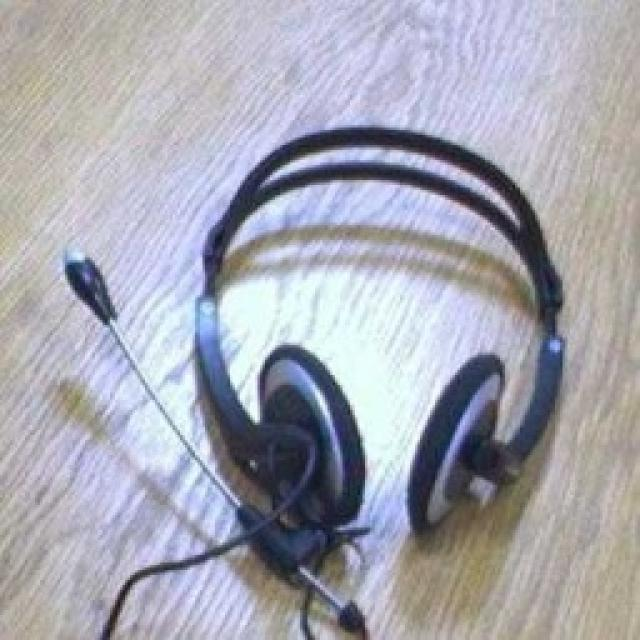headphones: (190, 123, 565, 535)
